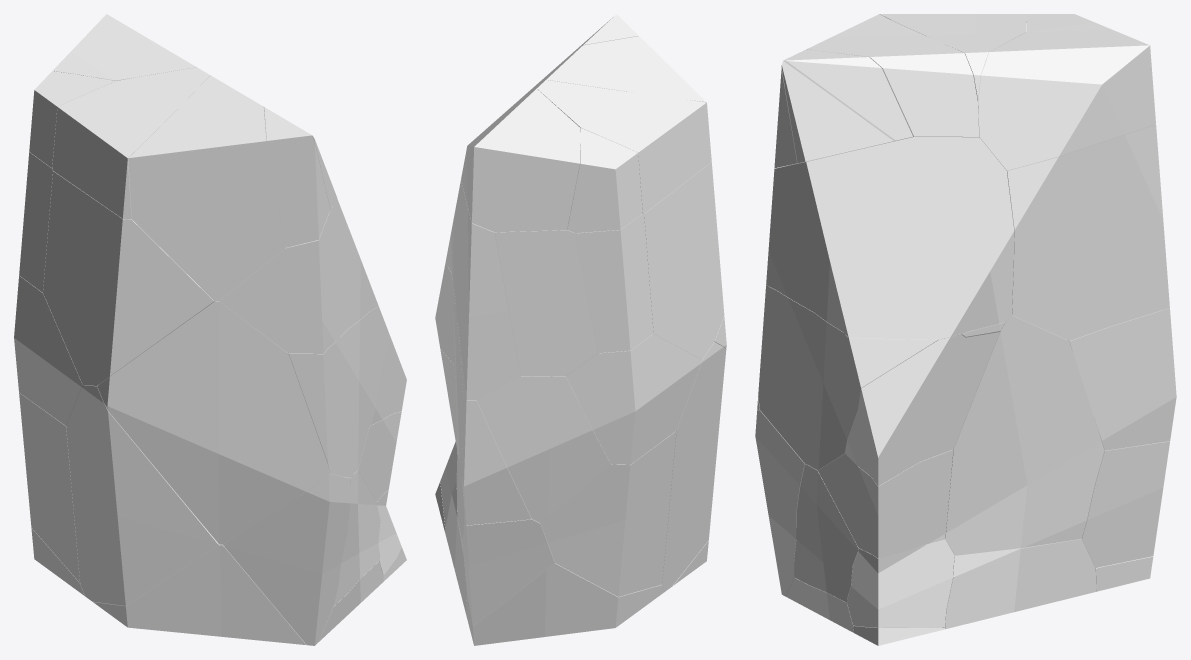
The model's file is Charcoal_3_broken.fbx.
3 renders of one model, left to right at view 1: azimuth 30°, elevation 25°; view 2: azimuth 150°, elevation 25°; view 3: azimuth 270°, elevation 25°, orthographic. The views are drawn at different scales.
Visible parts, largest first — view 1: charcoal_3_cell.027, charcoal_3_cell.018, charcoal_3_cell.017, charcoal_3_cell.008, charcoal_3_cell.022, charcoal_3_cell.006, charcoal_3_cell.028, charcoal_3_cell.019, charcoal_3_cell.002, charcoal_3_cell.029, charcoal_3_cell.026, charcoal_3_cell.011 (+9 smaller); view 2: charcoal_3_cell.029, charcoal_3_cell.007, charcoal_3_cell.010, charcoal_3_cell.016, charcoal_3_cell.017, charcoal_3_cell.026, charcoal_3_cell.028, charcoal_3_cell.020, charcoal_3_cell.008, charcoal_3_cell.025, charcoal_3_cell.001, charcoal_3_cell.014 (+9 smaller); view 3: charcoal_3_cell.022, charcoal_3_cell.003, charcoal_3_cell.020, charcoal_3_cell.007, charcoal_3_cell.002, charcoal_3_cell.009, charcoal_3_cell.005, charcoal_3_cell.018, charcoal_3_cell.013, charcoal_3_cell.012, charcoal_3_cell.014, charcoal_3_cell.004 (+9 smaller).
Part boxes in pixels (x1=…): charcoal_3_cell.027: x1=97, y1=301, x2=329, y2=544; charcoal_3_cell.018: x1=128, y1=75, x2=285, y2=301; charcoal_3_cell.017: x1=43, y1=171, x2=214, y2=385; charcoal_3_cell.008: x1=66, y1=385, x2=218, y2=605; charcoal_3_cell.022: x1=219, y1=199, x2=378, y2=353; charcoal_3_cell.006: x1=223, y1=474, x2=350, y2=645; charcoal_3_cell.028: x1=52, y1=67, x2=210, y2=219; charcoal_3_cell.019: x1=93, y1=544, x2=306, y2=644; charcoal_3_cell.002: x1=286, y1=306, x2=390, y2=477; charcoal_3_cell.029: x1=19, y1=392, x2=79, y2=582; charcoal_3_cell.026: x1=14, y1=275, x2=83, y2=425; charcoal_3_cell.011: x1=264, y1=107, x2=330, y2=247; charcoal_3_cell.029: x1=540, y1=431, x2=676, y2=596; charcoal_3_cell.007: x1=461, y1=88, x2=580, y2=232; charcoal_3_cell.010: x1=477, y1=374, x2=610, y2=523; charcoal_3_cell.016: x1=494, y1=230, x2=597, y2=376; charcoal_3_cell.017: x1=644, y1=162, x2=724, y2=359; charcoal_3_cell.026: x1=566, y1=334, x2=701, y2=464; charcoal_3_cell.028: x1=525, y1=80, x2=711, y2=213; charcoal_3_cell.020: x1=453, y1=179, x2=520, y2=400; charcoal_3_cell.008: x1=662, y1=342, x2=726, y2=591; charcoal_3_cell.025: x1=466, y1=562, x2=664, y2=645; charcoal_3_cell.001: x1=575, y1=213, x2=653, y2=353; charcoal_3_cell.014: x1=462, y1=488, x2=554, y2=625; charcoal_3_cell.022: x1=766, y1=137, x2=1014, y2=339; charcoal_3_cell.003: x1=945, y1=315, x2=1104, y2=555; charcoal_3_cell.020: x1=1007, y1=124, x2=1169, y2=340; charcoal_3_cell.007: x1=978, y1=22, x2=1155, y2=170; charcoal_3_cell.002: x1=758, y1=285, x2=1005, y2=470; charcoal_3_cell.009: x1=845, y1=332, x2=999, y2=486; charcoal_3_cell.005: x1=1068, y1=308, x2=1176, y2=450; charcoal_3_cell.018: x1=807, y1=14, x2=979, y2=146; charcoal_3_cell.013: x1=818, y1=450, x2=953, y2=558; charcoal_3_cell.012: x1=942, y1=539, x2=1096, y2=628; charcoal_3_cell.014: x1=1082, y1=441, x2=1169, y2=567; charcoal_3_cell.004: x1=847, y1=539, x2=954, y2=627.
Size of the model in its own units: 225 by 367 by 263.
